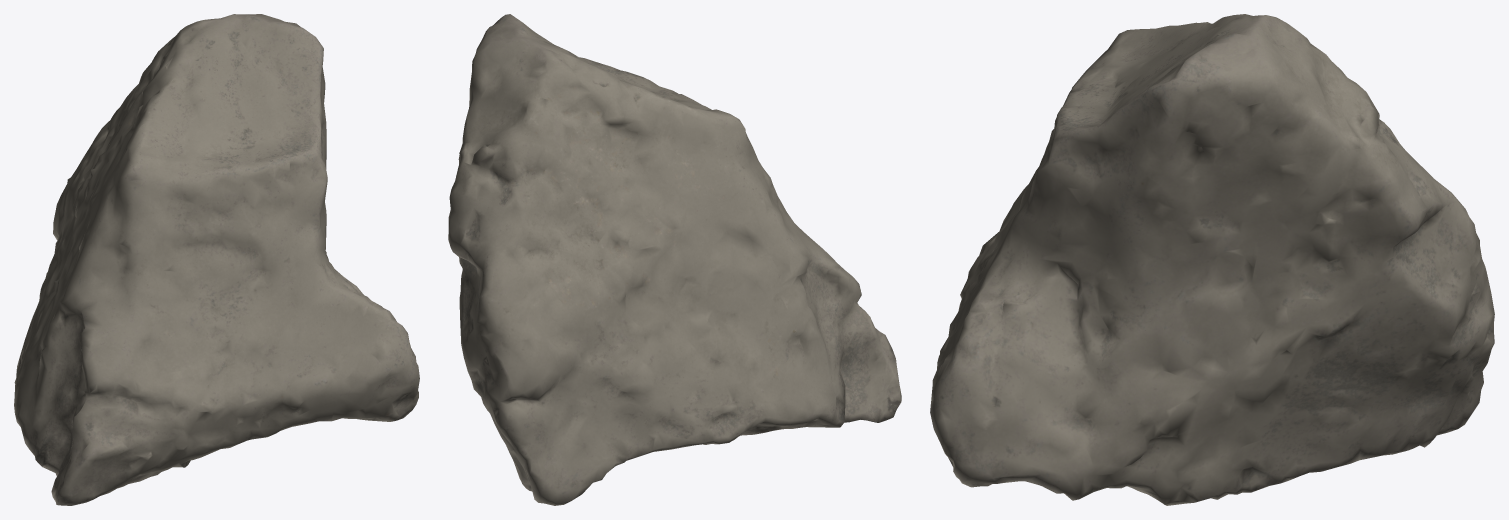
The model's file is moon_rock_05_2k.gltf.
3 views of the same model, side by side, from view 1: azimuth 30°, elevation 25°; view 2: azimuth 150°, elevation 25°; view 3: azimuth 270°, elevation 25° (orthographic). The views are drawn at different scales.
Parts seen in each view (by area): view 1: moon_rock_05_LOD0; view 2: moon_rock_05_LOD0; view 3: moon_rock_05_LOD0.
Part boxes in pixels (left/top/right/bottom): moon_rock_05_LOD0: left=14, top=14, right=419, bottom=505; moon_rock_05_LOD0: left=448, top=14, right=901, bottom=505; moon_rock_05_LOD0: left=930, top=14, right=1494, bottom=505.
Size of the model in its own units: 0.0717 by 0.0734 by 0.0811.
1 material, 1 textured.
